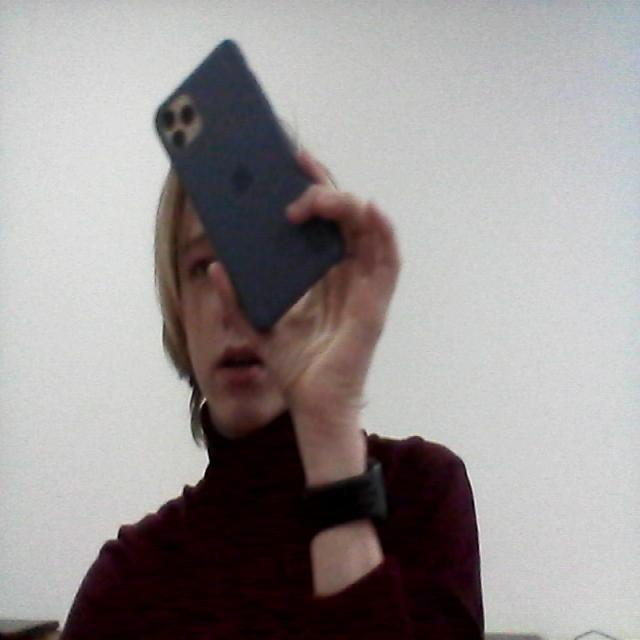Phone: (151, 36, 348, 336)
